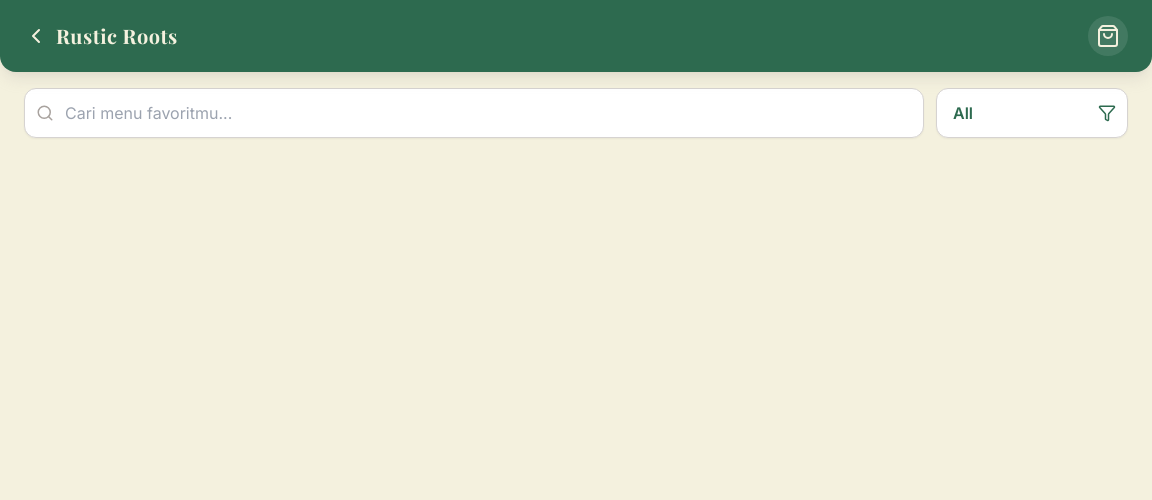
Menu Page › searches products correctly
Type "Coffee" into the field with placeholder "Cari menu favoritmu..." at [474, 113], box [24,88,924,138]
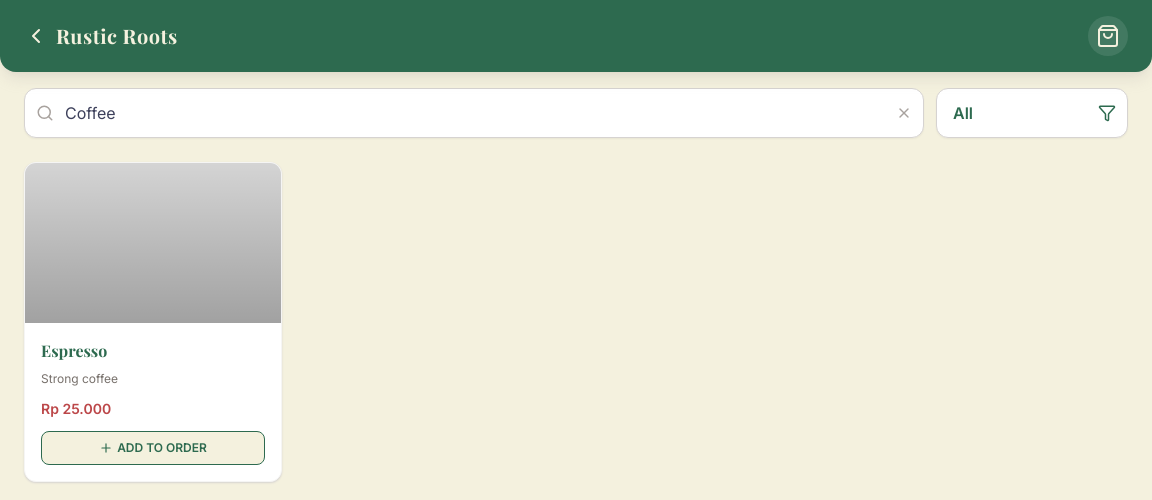
Expected: the heading "Espresso" is shown, [41,340,107,361]
